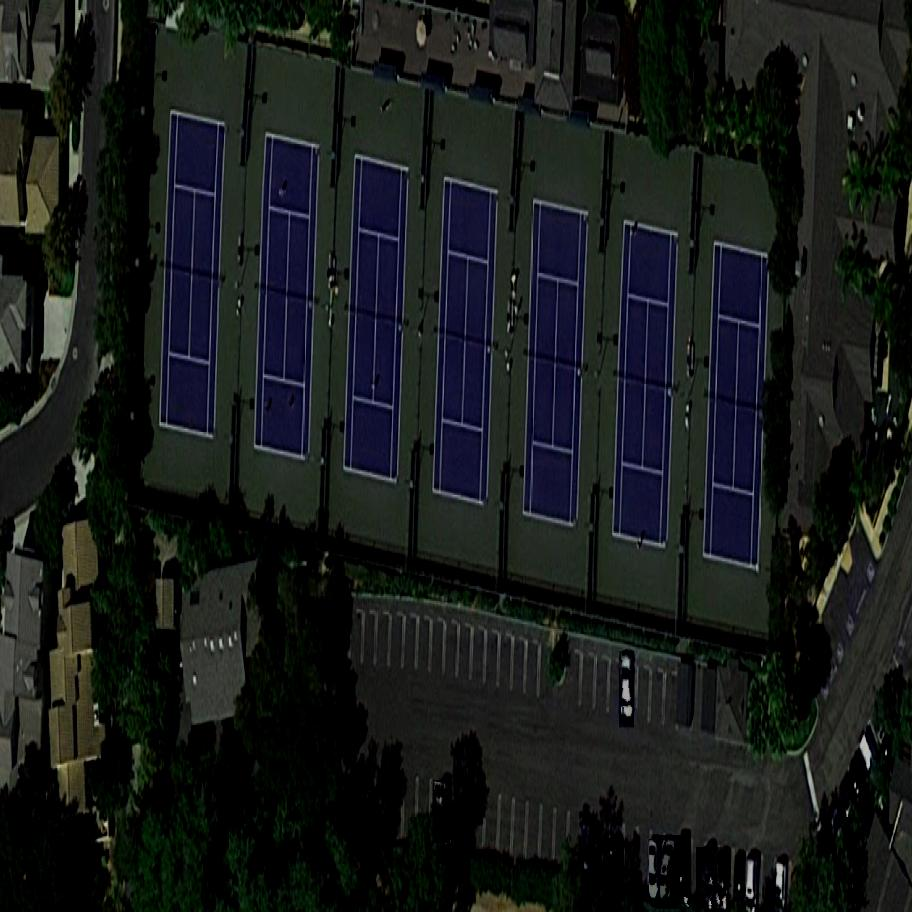small-vehicle: (655, 836, 681, 909), (696, 845, 723, 908), (673, 835, 693, 905), (603, 837, 624, 899), (619, 651, 634, 728), (433, 779, 451, 843), (716, 856, 730, 912), (649, 840, 659, 904)
